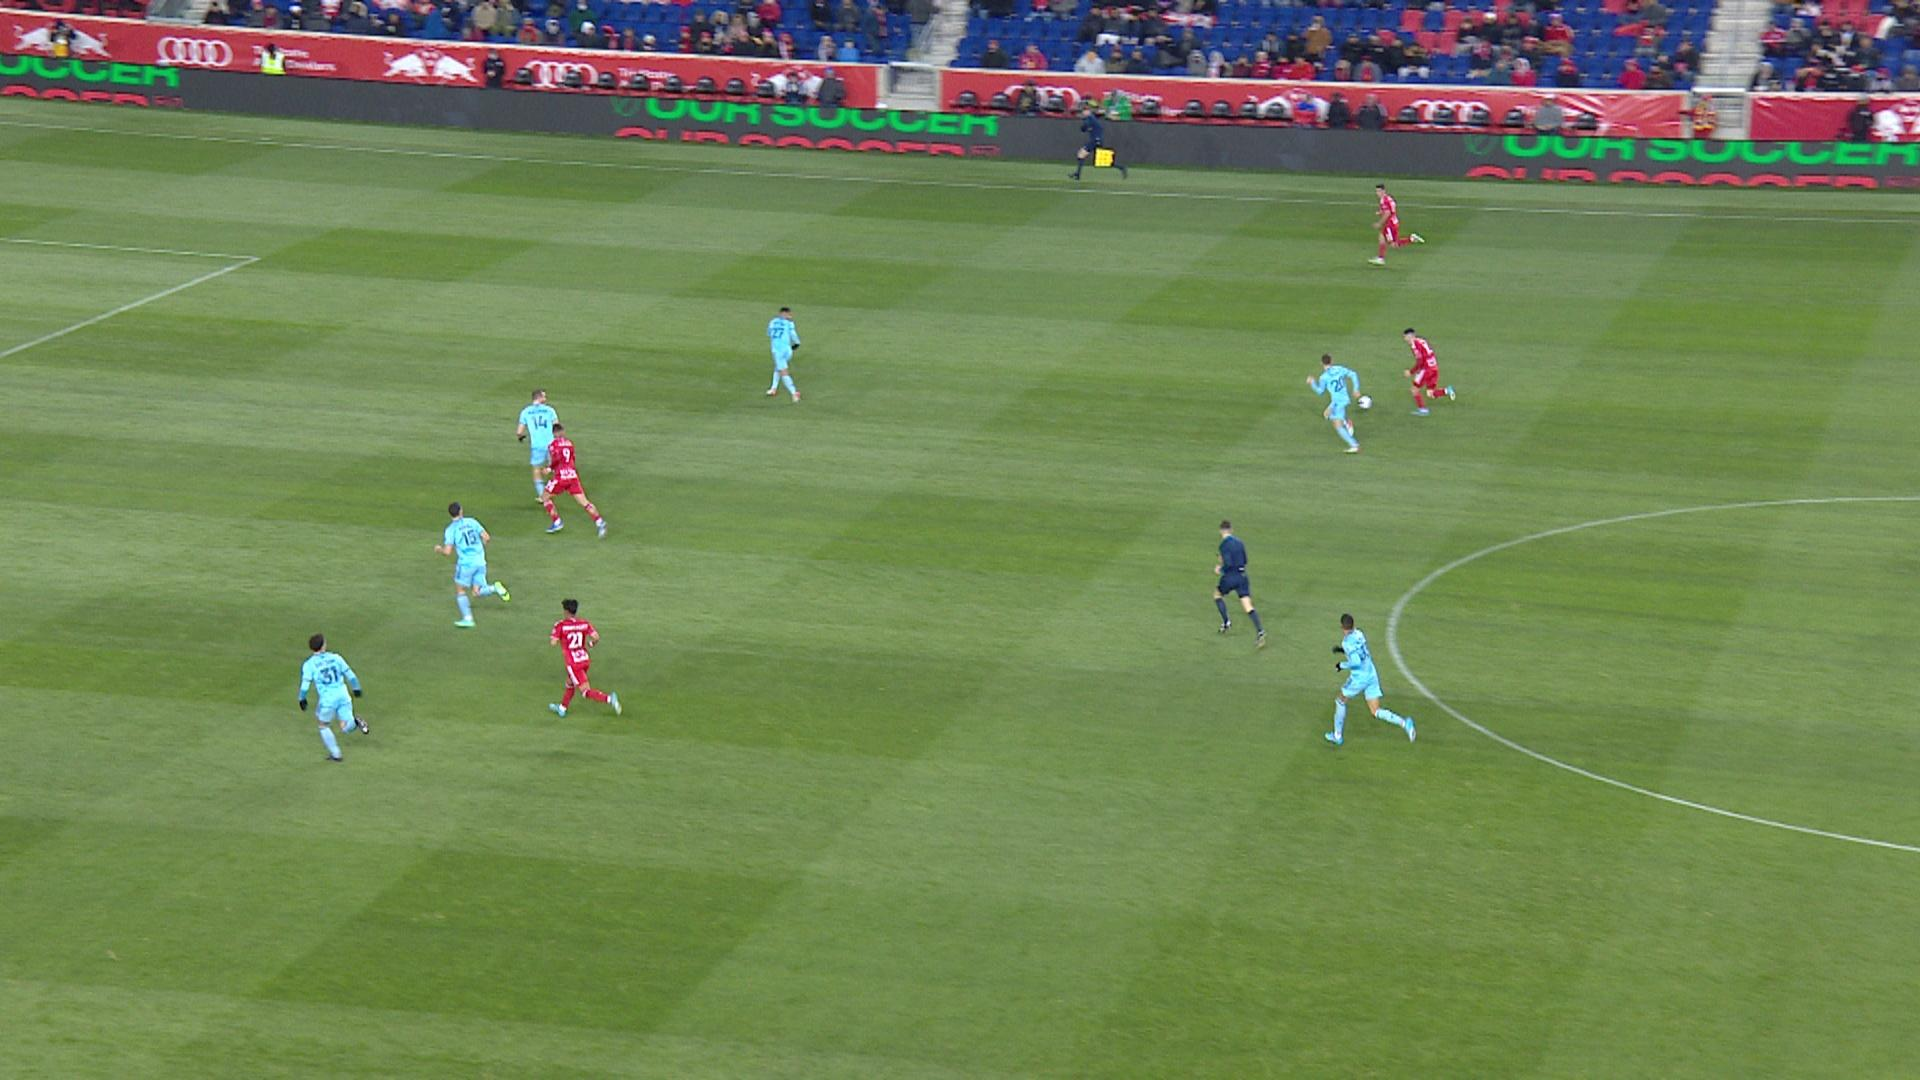football: (1361, 396, 1371, 407)
